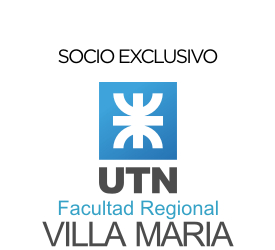utn: (113, 87, 164, 149)
